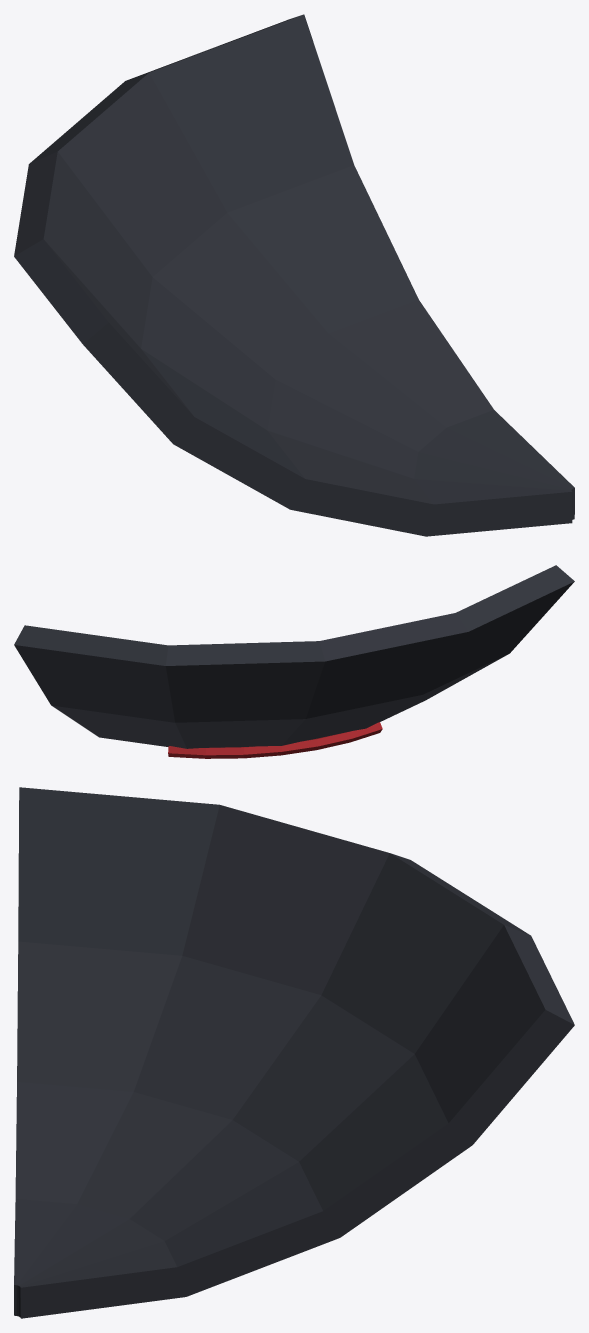
Rendered from nociosphere_shell_L.obj.
3 renders of one model, top to bottom at view 1: azimuth 30°, elevation 25°; view 2: azimuth 150°, elevation 25°; view 3: azimuth 270°, elevation 25°, orthographic. The views are drawn at different scales.
Visible parts, largest first — view 1: nociosphere_shell_L; view 2: nociosphere_shell_L; view 3: nociosphere_shell_L.
Boxes of the visible parts, <box> form: nociosphere_shell_L: <box>14,14,574,536</box>; nociosphere_shell_L: <box>14,565,574,758</box>; nociosphere_shell_L: <box>14,787,574,1318</box>.
Bounding box in the file's own units: 0.5916 × 0.357 × 0.5916.
